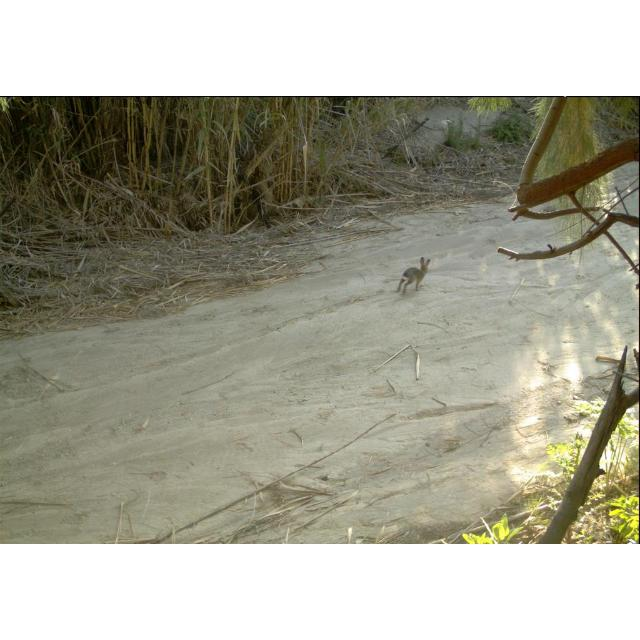animals: (398, 256, 437, 298)
